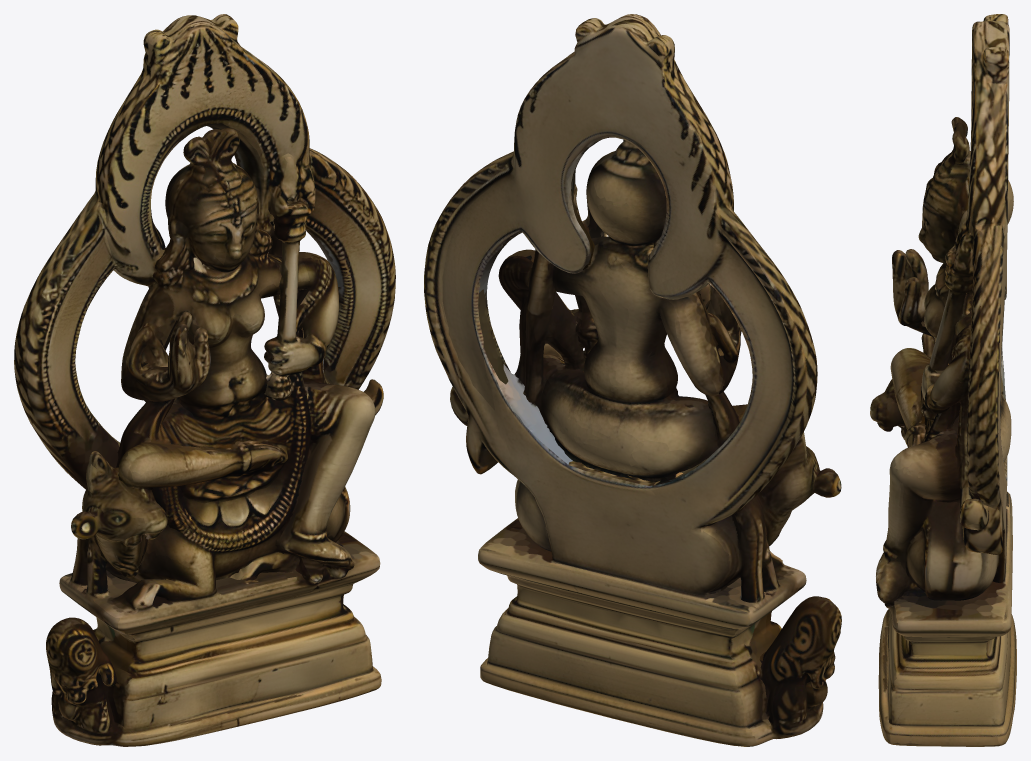
3 renders of one model, left to right at view 1: azimuth 30°, elevation 25°; view 2: azimuth 150°, elevation 25°; view 3: azimuth 270°, elevation 25°, orthographic. The views are drawn at different scales.
Parts seen in each view (by area): view 1: textured_mesh; view 2: textured_mesh; view 3: textured_mesh.
Boxes of the visible parts, bbox=[...] form: textured_mesh: bbox=[14, 14, 395, 746]; textured_mesh: bbox=[424, 14, 841, 746]; textured_mesh: bbox=[870, 14, 1016, 746].
Size of the model in its own units: 1.17 by 1.99 by 0.4036.
1 material, 1 textured.
